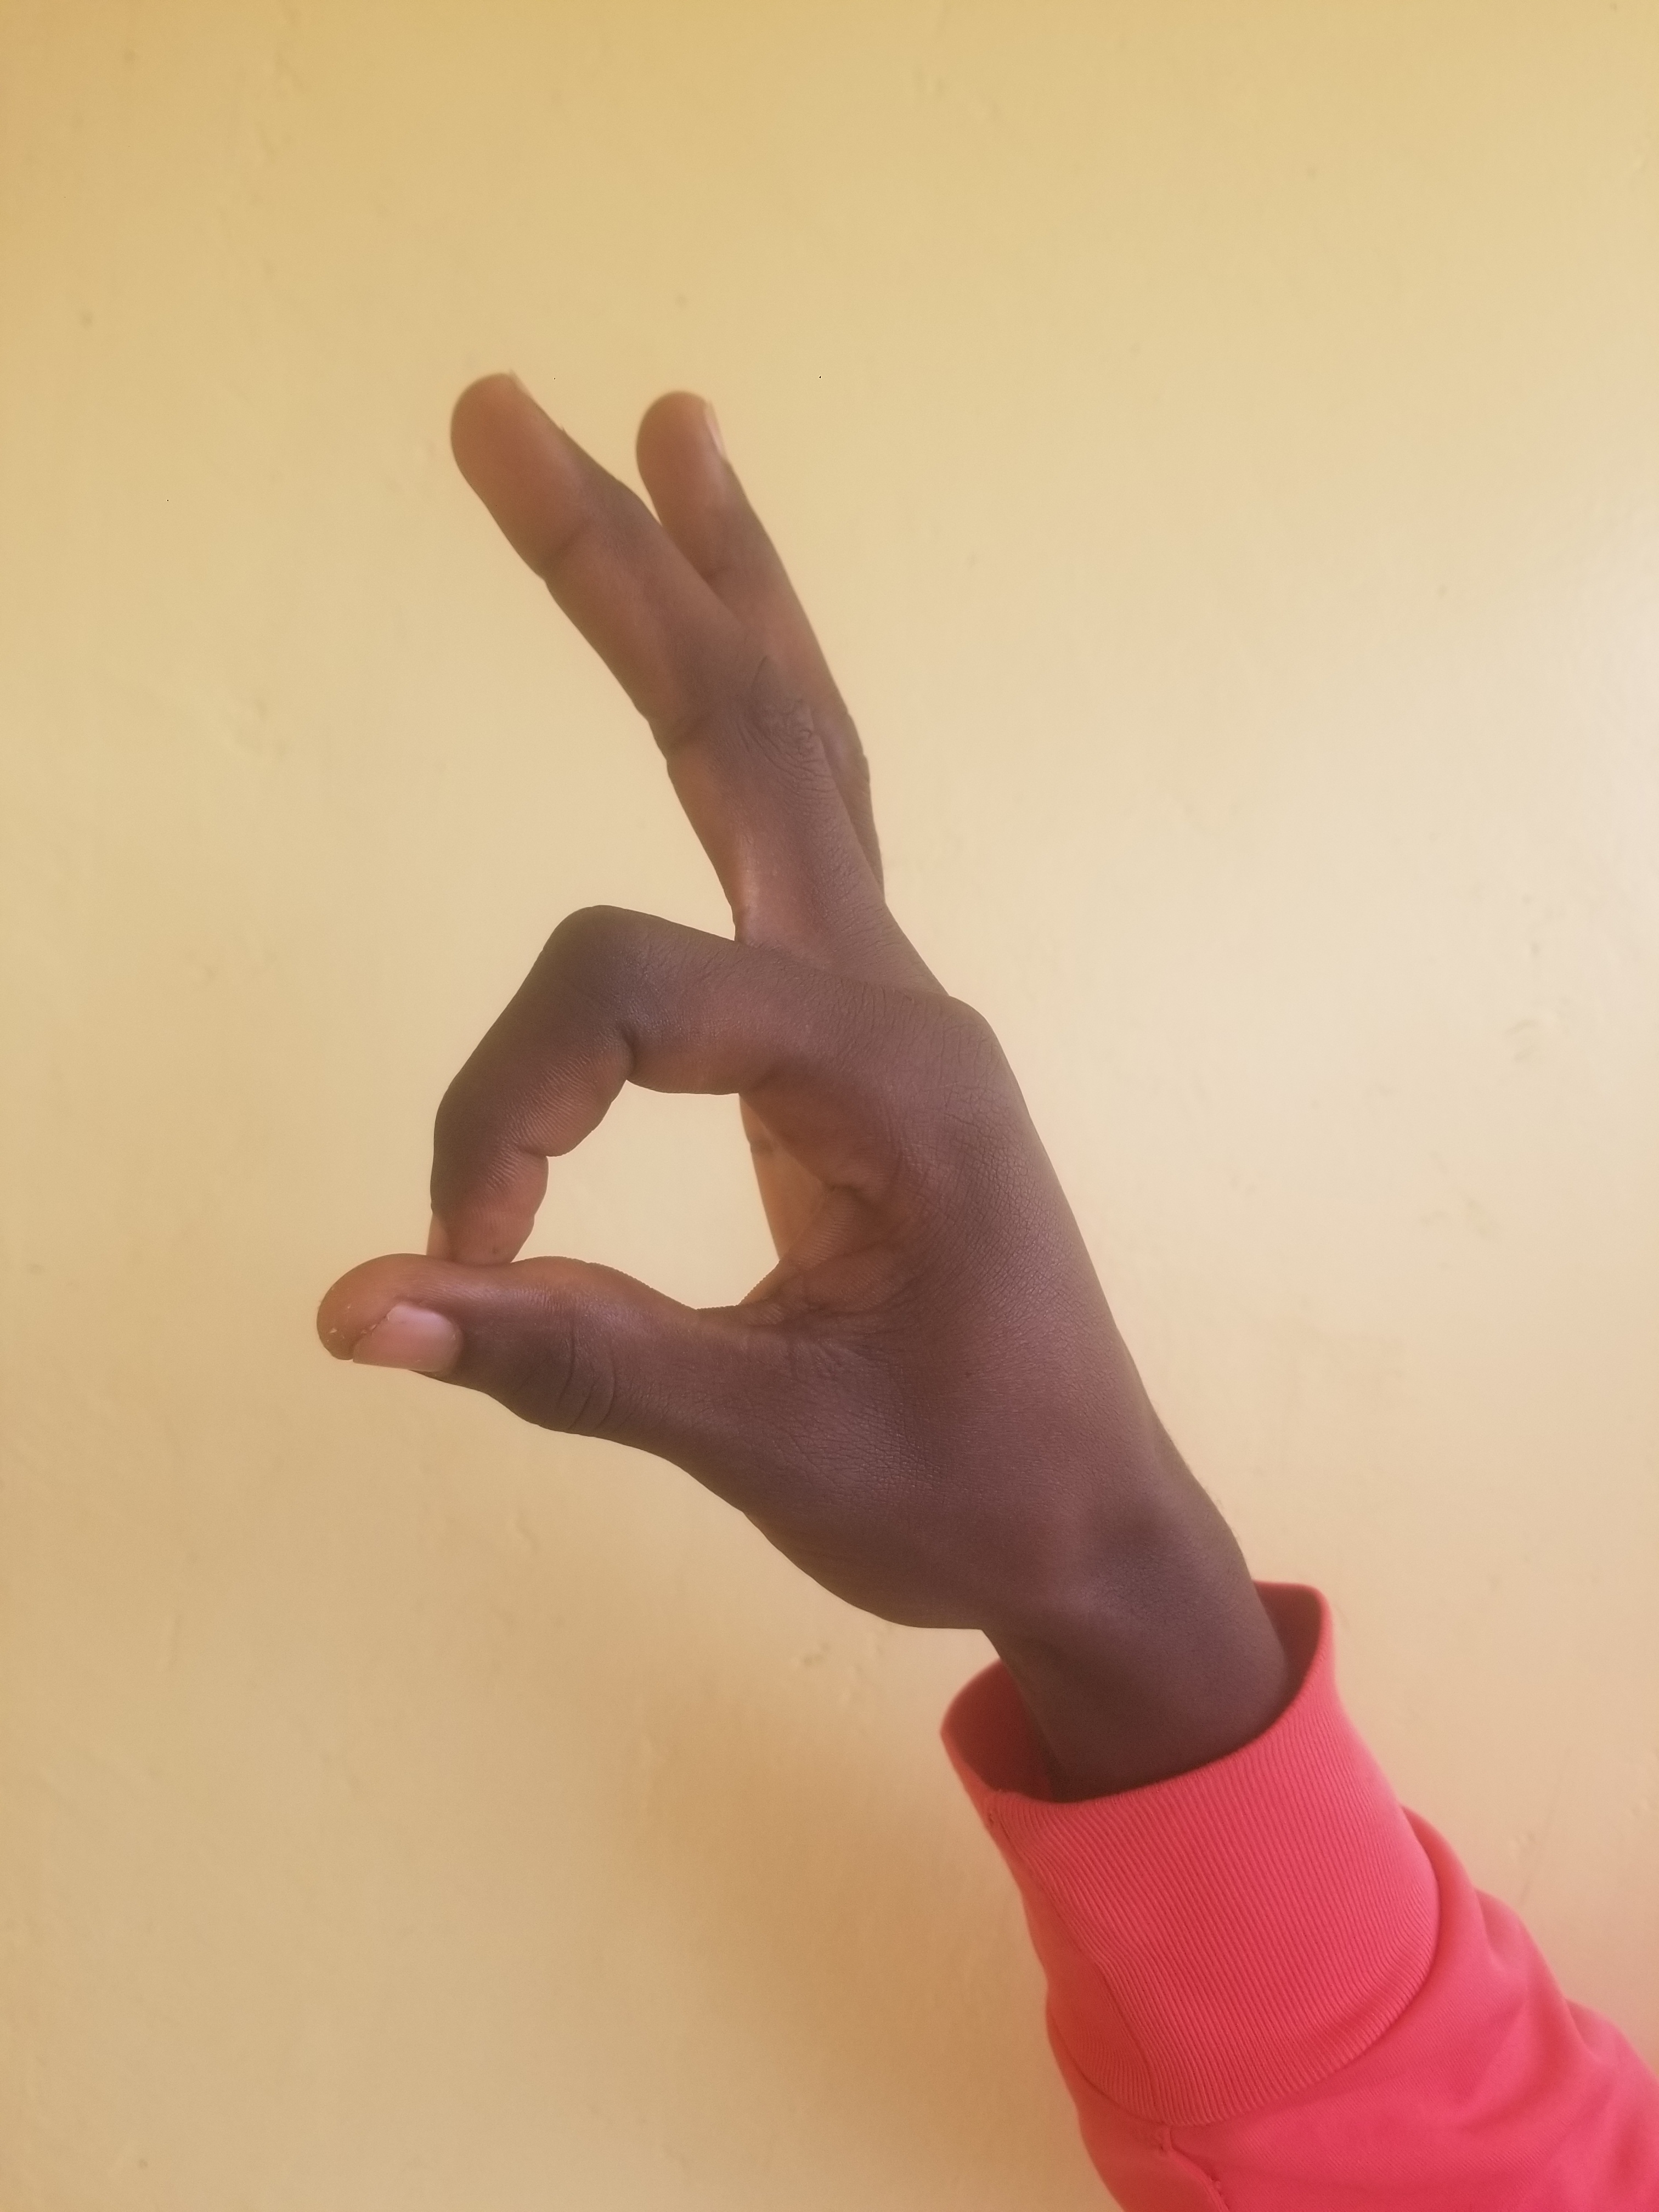ok: (218, 301, 1546, 1846)
